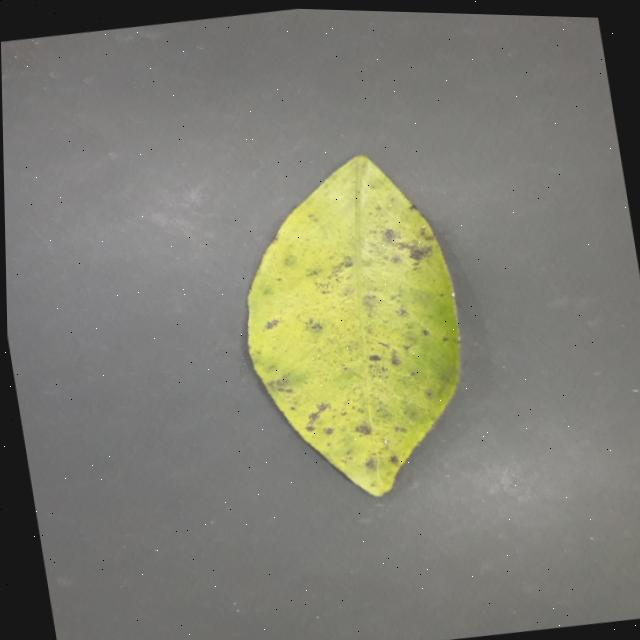greasy_spot: (247, 156, 458, 496)
